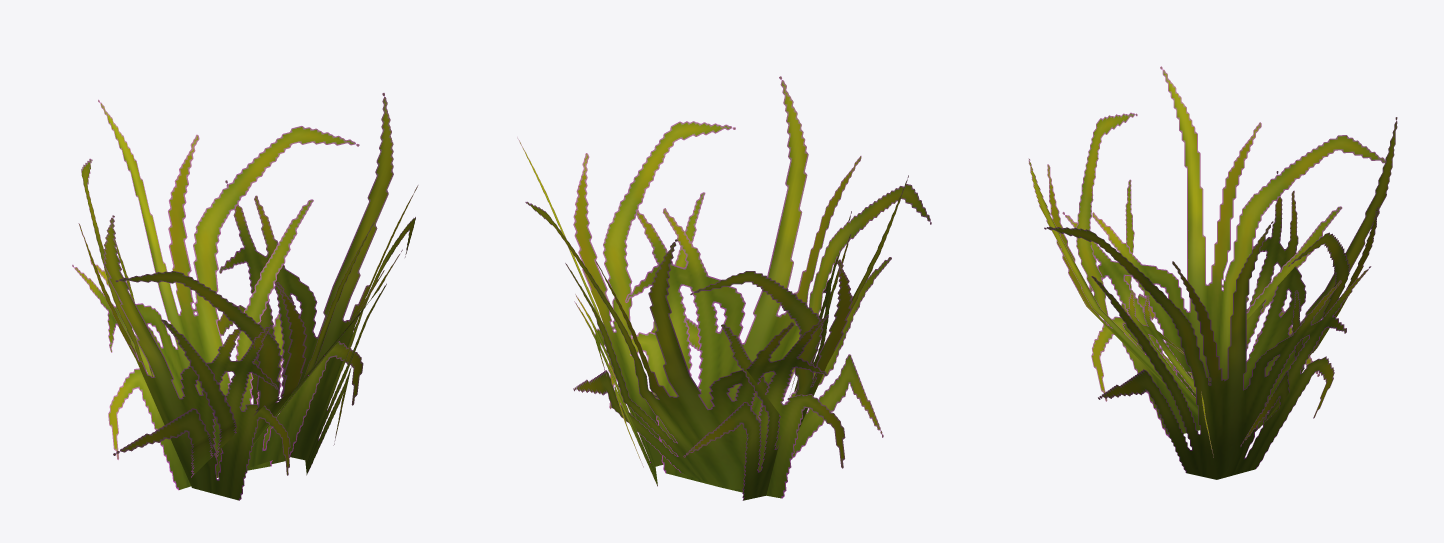
Rendered from n_SWTgrass02b.glb.
The picture shows the model from 3 angles, left to right: view 1: azimuth 30°, elevation 25°; view 2: azimuth 150°, elevation 25°; view 3: azimuth 270°, elevation 25°; orthographic projection. The views are drawn at different scales.
Parts seen in each view (by area): view 1: n_SWTgrass02b; view 2: n_SWTgrass02b; view 3: n_SWTgrass02b.
Part boxes in pixels (x1,y1,x2,y2): n_SWTgrass02b: (72, 93, 418, 500); n_SWTgrass02b: (517, 76, 931, 500); n_SWTgrass02b: (1028, 66, 1397, 479).
Size of the model in its own units: 0.6051 by 0.5427 by 0.6073.
1 material, 1 textured.
